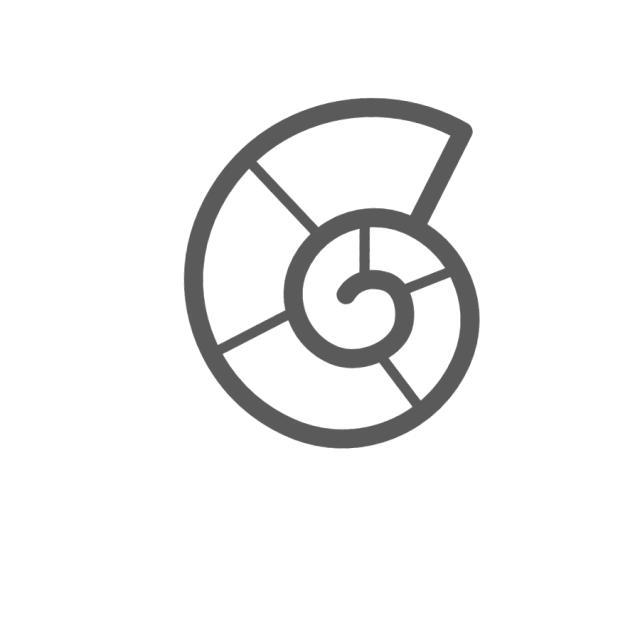fossil: (177, 93, 488, 457)
